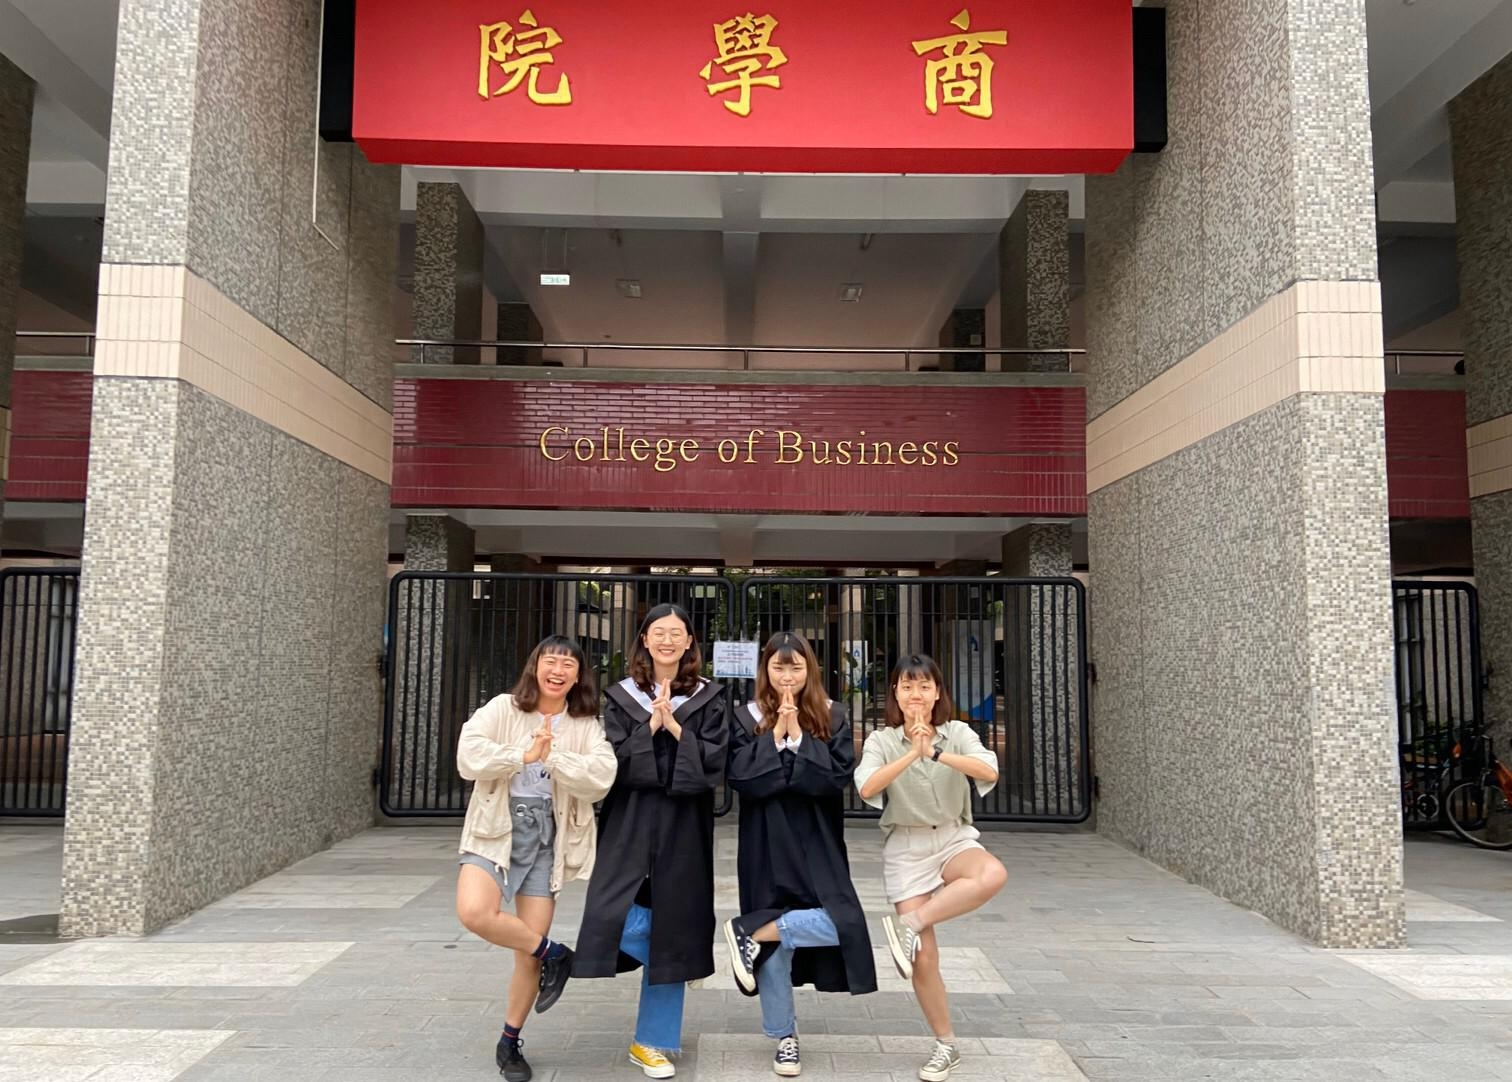people: (861, 646, 1018, 1080), (737, 633, 854, 1067), (603, 614, 703, 1067), (480, 639, 576, 1074)
